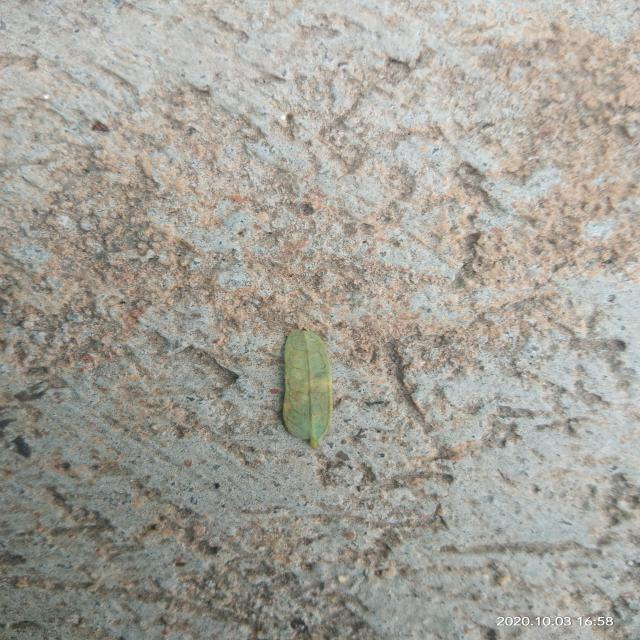tamarind: (283, 330, 332, 449)
